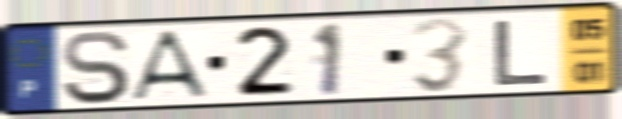1: (309, 19, 346, 97)
2: (232, 24, 298, 98)
3: (408, 14, 478, 95)
A: (125, 27, 214, 103)
L: (491, 18, 552, 88)
S: (59, 28, 133, 107)
